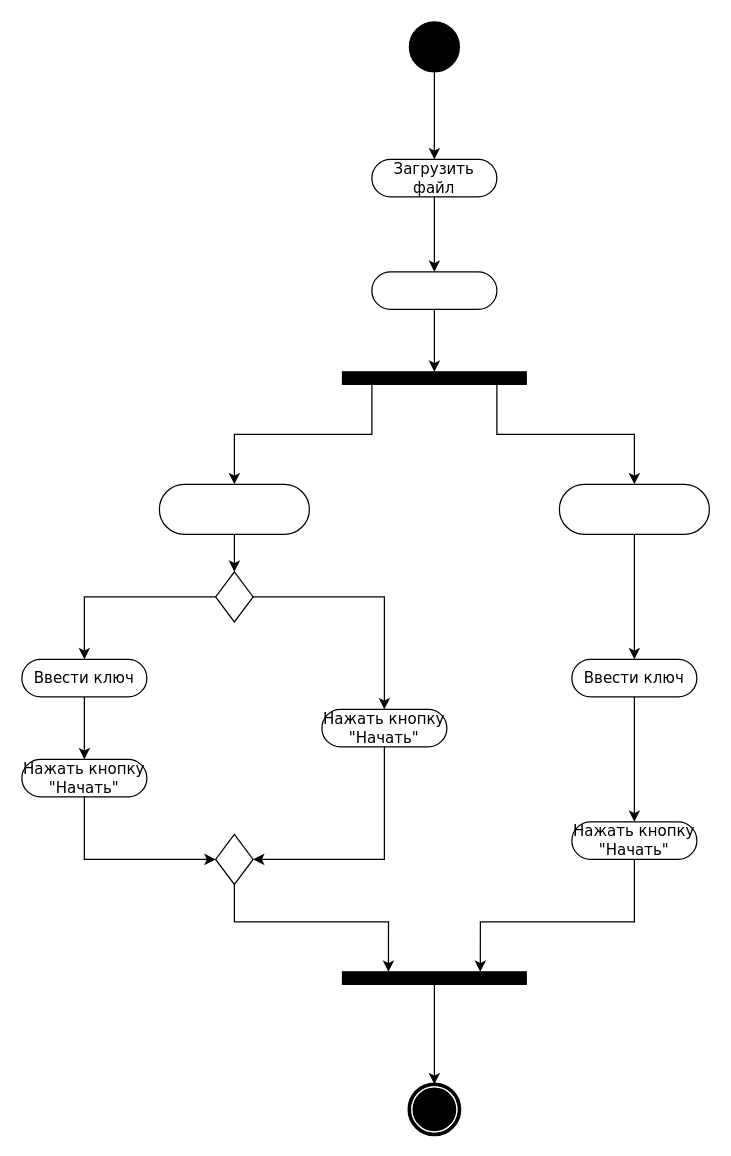
Image size: 731x1156. Some labels were removed from this diagram. The shapes that lost their labels are listed below. From the top down, each one's centre as x and y in pixels, then its label:
pixel 434 290: Выбрать алгоритм
pixel 233 508: Выбрать режим шифрования
pixel 633 508: Выбрать режим расшифровки
